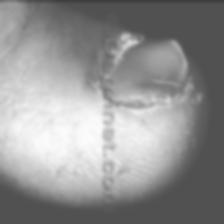Toxin: (103, 37, 188, 112)
